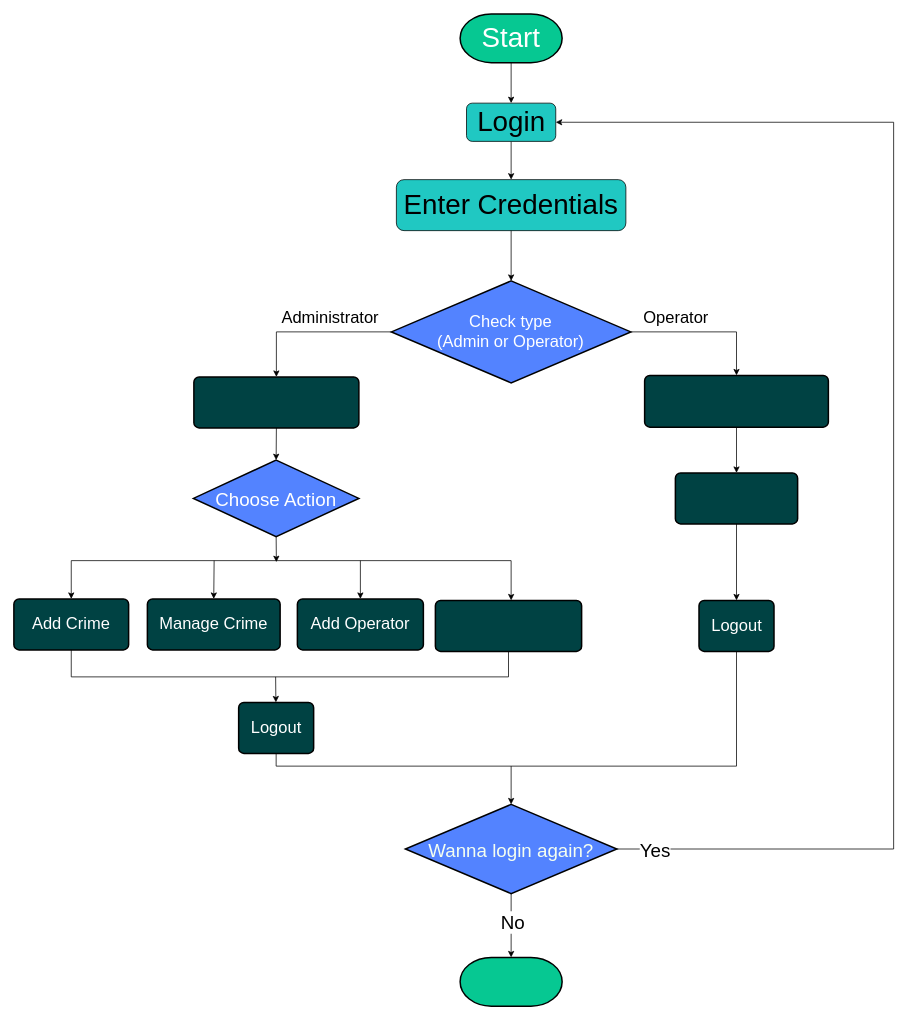
The diagram is 913 pixels wide and 1019 high, and some of its shapes have lost their labels. Each missing label, with the centre of its shape:
"Admin Dashboard" belongs at (276,402).
"End" belongs at (510,981).
"Manage Operator" belongs at (508,625).
"Operator Dashboard" belongs at (736,401).
"View Crime" belongs at (736,498).
